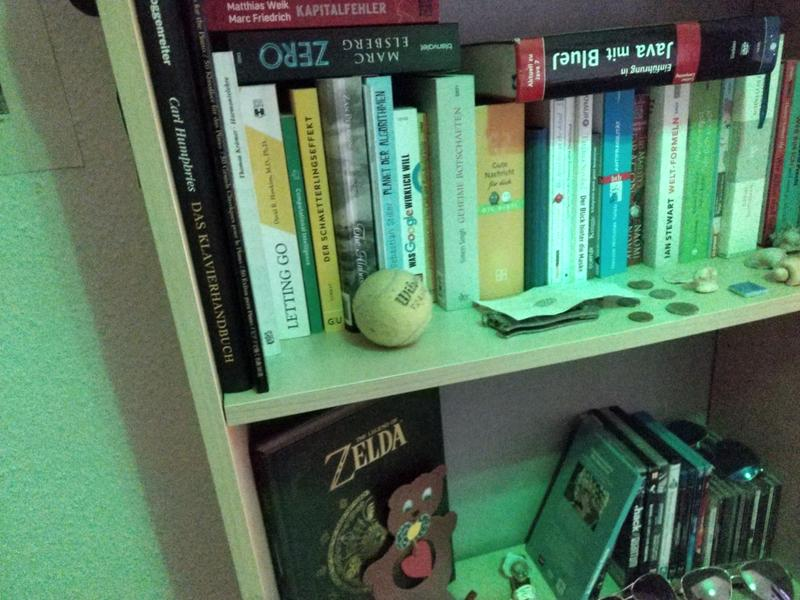Tennisball: (351, 267, 437, 353)
